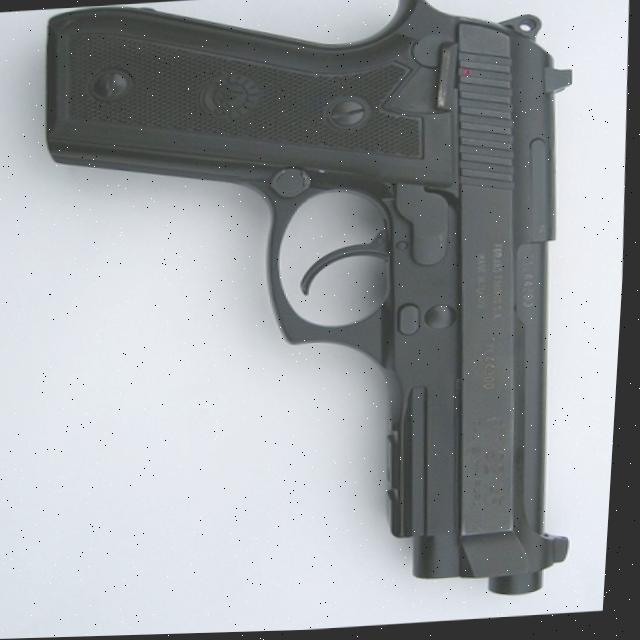pistol: (17, 0, 604, 628)
